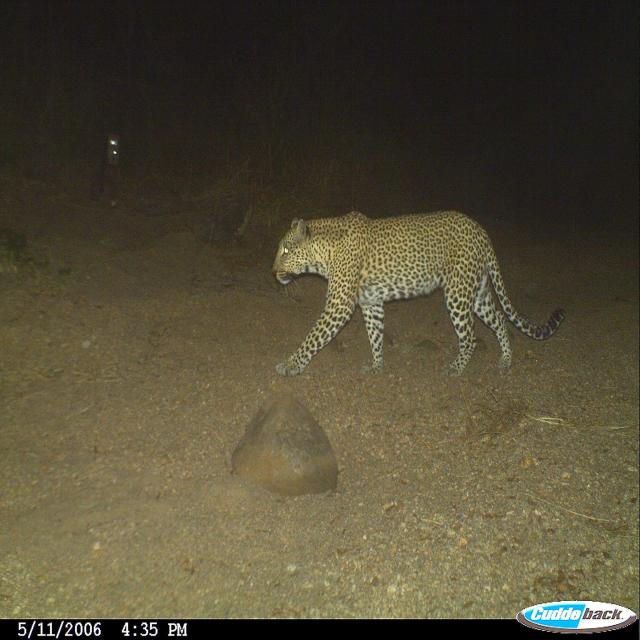Leopard: (269, 207, 563, 385)
